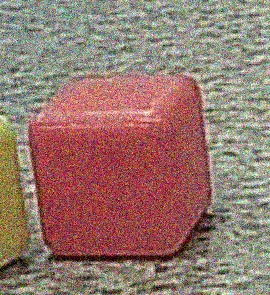orange_cube: (22, 64, 240, 263)
